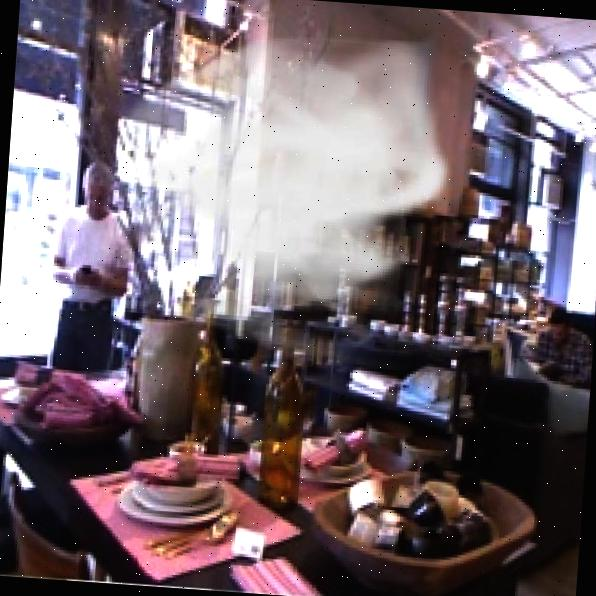smoke: (90, 10, 463, 382)
